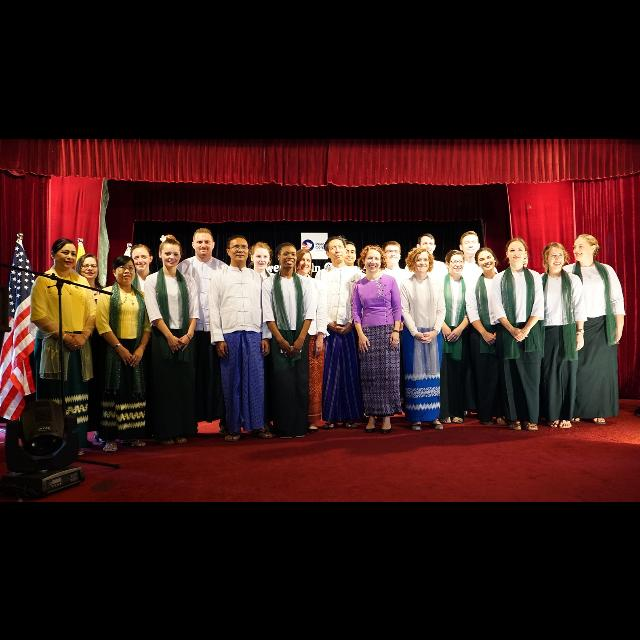head: (50, 238, 78, 270), (572, 233, 600, 261), (112, 254, 136, 286), (191, 228, 215, 258), (158, 238, 182, 268), (226, 235, 250, 263), (362, 244, 384, 274), (130, 243, 154, 270), (76, 252, 100, 278), (544, 241, 566, 269), (444, 248, 466, 276), (326, 236, 348, 264), (250, 242, 272, 270), (506, 238, 528, 264), (276, 242, 298, 268), (477, 246, 498, 272), (382, 240, 403, 264), (460, 232, 482, 254), (340, 240, 358, 266), (416, 233, 436, 255), (412, 248, 430, 272), (296, 248, 312, 274)
person: (29, 235, 100, 460), (208, 232, 276, 444), (170, 225, 236, 440), (140, 232, 202, 448), (560, 232, 628, 426), (94, 252, 154, 452), (312, 234, 372, 431), (529, 240, 591, 430), (259, 240, 317, 440), (491, 236, 547, 432), (114, 241, 168, 443), (446, 227, 502, 418), (276, 247, 332, 435), (350, 242, 404, 434), (395, 244, 449, 433), (322, 238, 374, 424), (401, 232, 453, 416), (64, 252, 112, 446), (238, 238, 284, 438), (462, 245, 512, 427), (429, 248, 476, 424), (374, 240, 416, 422)
